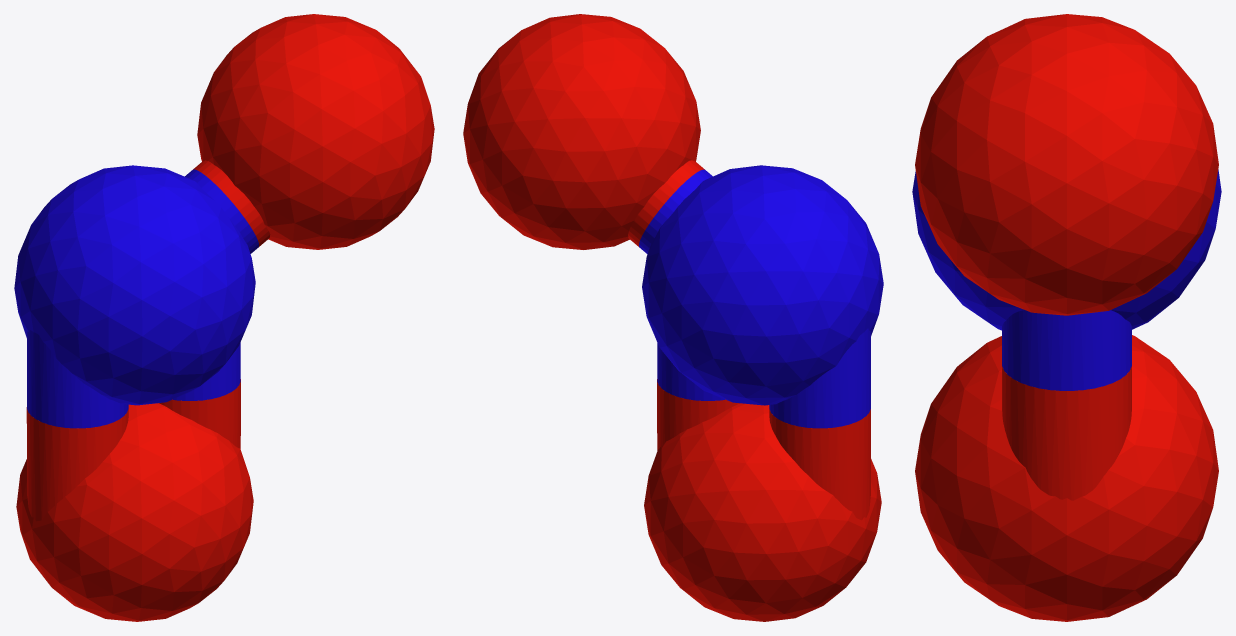
3 renders of one model, left to right at view 1: azimuth 30°, elevation 25°; view 2: azimuth 150°, elevation 25°; view 3: azimuth 270°, elevation 25°, orthographic. The views are drawn at different scales.
Parts seen in each view (by area): view 1: Shape_IndexedFaceSet, Shape_IndexedFaceSet.002, Shape_IndexedFaceSet.001, Shape_IndexedFaceSet.013, Shape_IndexedFaceSet.011, Shape_IndexedFaceSet.009, Shape_IndexedFaceSet.005, Shape_IndexedFaceSet.007, Shape_IndexedFaceSet.003; view 2: Shape_IndexedFaceSet, Shape_IndexedFaceSet.002, Shape_IndexedFaceSet.001, Shape_IndexedFaceSet.013, Shape_IndexedFaceSet.011, Shape_IndexedFaceSet.009, Shape_IndexedFaceSet.005, Shape_IndexedFaceSet.007, Shape_IndexedFaceSet.003; view 3: Shape_IndexedFaceSet.002, Shape_IndexedFaceSet.001, Shape_IndexedFaceSet.009, Shape_IndexedFaceSet.007, Shape_IndexedFaceSet.
Boxes of the visible parts, left/top/right/bottom form: Shape_IndexedFaceSet: left=14, top=165, right=255, bottom=405; Shape_IndexedFaceSet.002: left=197, top=14, right=434, bottom=249; Shape_IndexedFaceSet.001: left=16, top=403, right=253, bottom=621; Shape_IndexedFaceSet.013: left=26, top=407, right=128, bottom=521; Shape_IndexedFaceSet.011: left=27, top=330, right=128, bottom=428; Shape_IndexedFaceSet.009: left=159, top=379, right=240, bottom=448; Shape_IndexedFaceSet.005: left=193, top=160, right=270, bottom=247; Shape_IndexedFaceSet.007: left=173, top=342, right=240, bottom=400; Shape_IndexedFaceSet.003: left=185, top=169, right=258, bottom=253; Shape_IndexedFaceSet: left=642, top=165, right=883, bottom=405; Shape_IndexedFaceSet.002: left=463, top=14, right=700, bottom=249; Shape_IndexedFaceSet.001: left=644, top=403, right=881, bottom=621; Shape_IndexedFaceSet.013: left=769, top=409, right=870, bottom=520; Shape_IndexedFaceSet.011: left=769, top=328, right=870, bottom=428; Shape_IndexedFaceSet.009: left=657, top=379, right=739, bottom=450; Shape_IndexedFaceSet.005: left=628, top=160, right=704, bottom=247; Shape_IndexedFaceSet.007: left=657, top=343, right=724, bottom=400; Shape_IndexedFaceSet.003: left=639, top=169, right=712, bottom=253; Shape_IndexedFaceSet.002: left=915, top=14, right=1218, bottom=315; Shape_IndexedFaceSet.001: left=915, top=335, right=1218, bottom=621; Shape_IndexedFaceSet.009: left=1002, top=366, right=1131, bottom=500; Shape_IndexedFaceSet.007: left=1002, top=310, right=1131, bottom=390; Shape_IndexedFaceSet: left=912, top=169, right=1221, bottom=330.
Size of the model in its own units: 0.2376 by 0.3175 by 0.1281.
